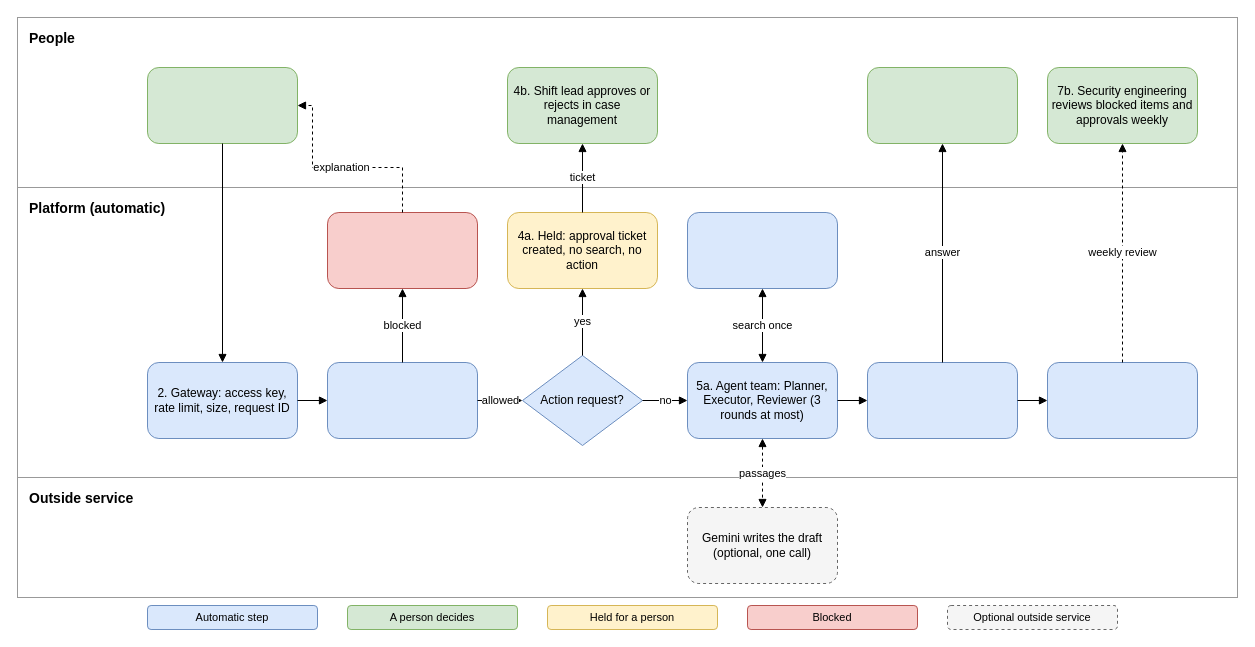
Some shapes in this 1255 by 647 pixel diagram are drawn without their labels. Each missing label, with the box of its shape:
1. Analyst asks a question in the console or by API: (146, 66, 298, 144)
3. Guardrails: injection, credentials, personal data: (326, 362, 478, 438)
5b. Vector store: hybrid search filtered by role: (686, 212, 838, 288)
6a. Answer with sources and the six hops: (866, 362, 1018, 438)
6b. Analyst reads the cited answer and decides what to do: (866, 66, 1018, 144)
7a. Trace in Phoenix and audit log entry: (1046, 362, 1198, 438)
Blocked: the analyst is told why: (326, 212, 478, 288)
